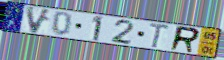0: (52, 11, 74, 37)
1: (91, 15, 105, 42)
2: (110, 19, 137, 46)
R: (168, 25, 202, 54)
T: (148, 21, 172, 50)
V: (25, 5, 54, 35)
